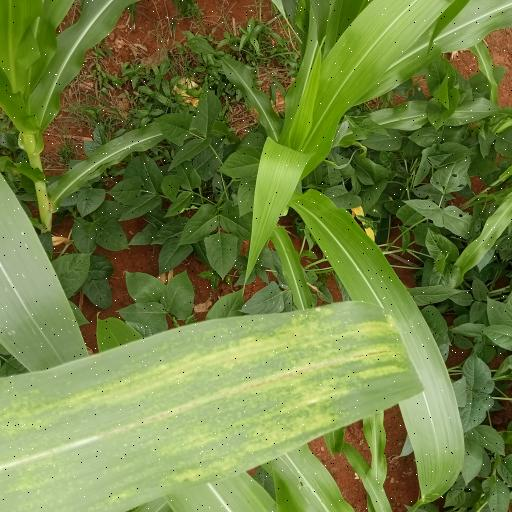Corn_Brown_Spots: (0, 287, 407, 512)
